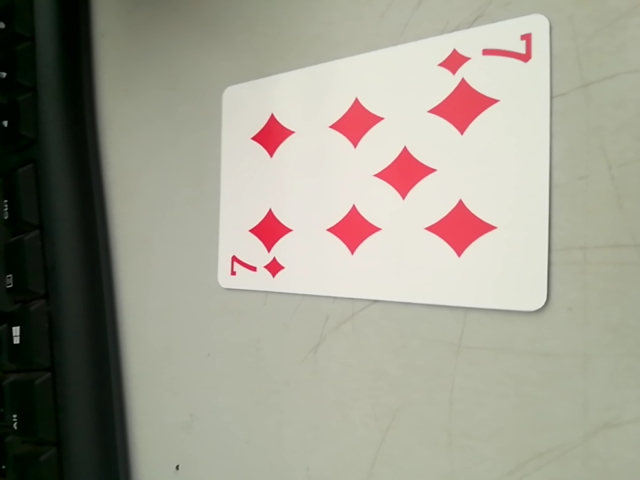fk 7: (443, 27, 536, 76), (221, 251, 290, 287)
